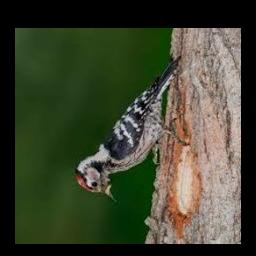Woodpecker: (74, 57, 189, 202)
